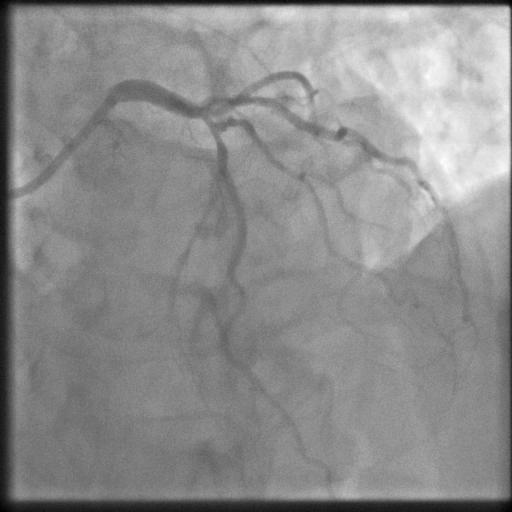Stenosis: (201, 111, 223, 145)
